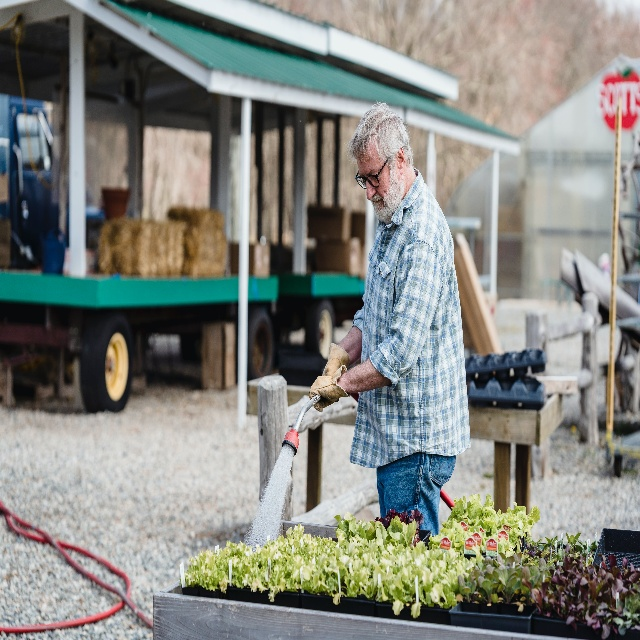Gafas: (355, 155, 393, 190)
Guantes: (308, 361, 350, 412), (322, 341, 350, 378)
